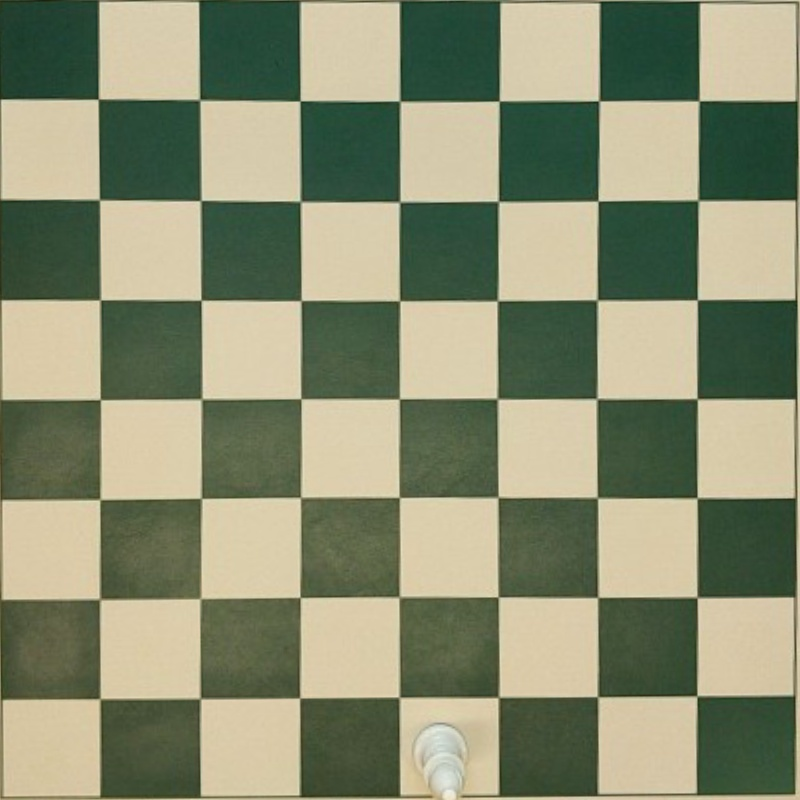white-bishop: (413, 723, 468, 798)
